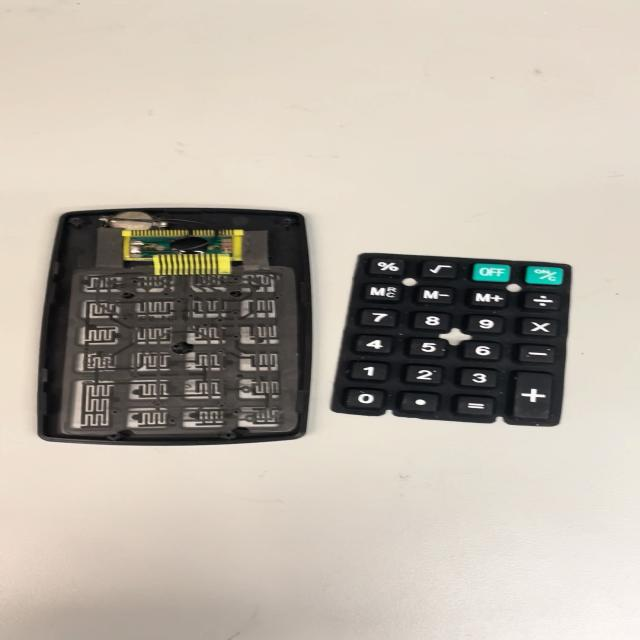front_panel: (40, 203, 330, 446)
number_pad: (339, 250, 575, 424)
